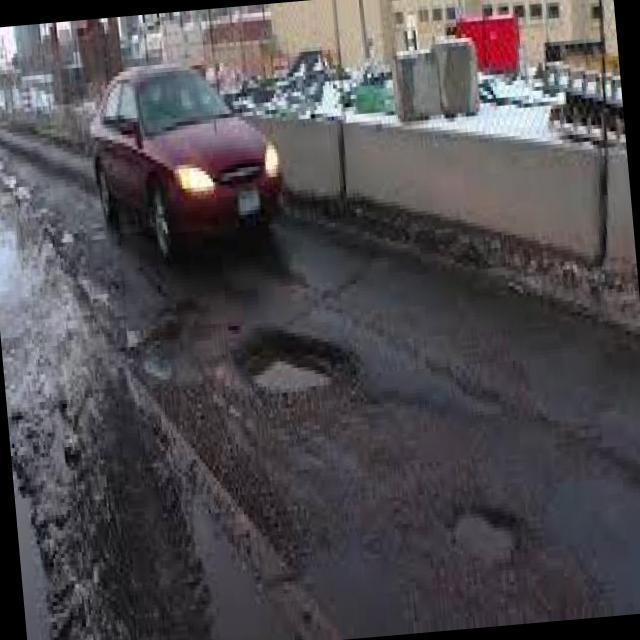Pothole: (451, 512, 565, 599), (233, 329, 343, 400)
